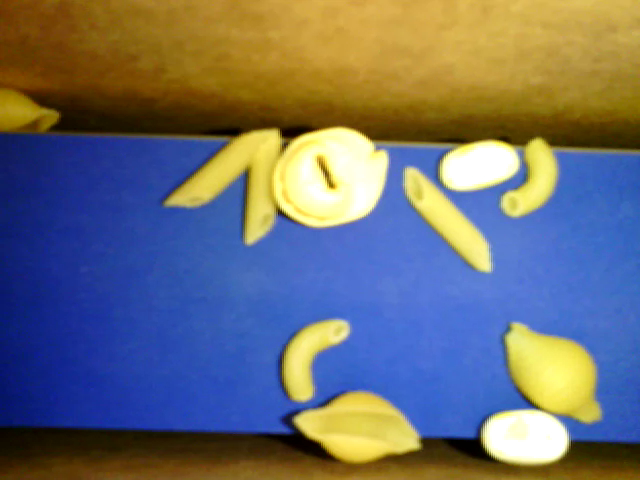elbow: (281, 308, 356, 404), (498, 123, 559, 221)
penne: (399, 160, 496, 280), (160, 119, 277, 213), (240, 122, 282, 251)
shell: (497, 319, 605, 428), (286, 387, 426, 466), (5, 85, 64, 138)
tortellini: (276, 123, 386, 225)
